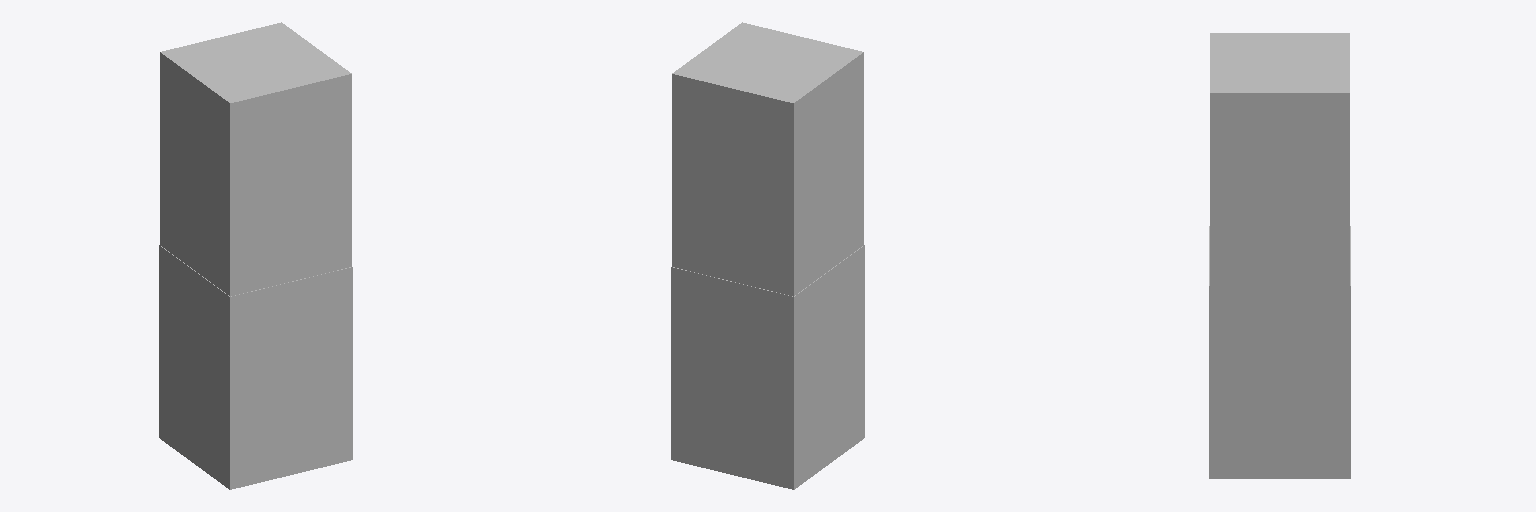
Rendered from zombie_armored_rightleg.obj.
3 views of the same model, side by side, from view 1: azimuth 30°, elevation 25°; view 2: azimuth 150°, elevation 25°; view 3: azimuth 270°, elevation 25° (orthographic).
Parts seen in each view (by area): view 1: Cube.009; view 2: Cube.009; view 3: Cube.009.
Boxes of the visible parts, <box> form: Cube.009: <box>159,22,352,489</box>; Cube.009: <box>671,22,864,489</box>; Cube.009: <box>1209,33,1350,478</box>.
Bounding box in the file's own units: 0.2525 × 0.7575 × 0.2525.